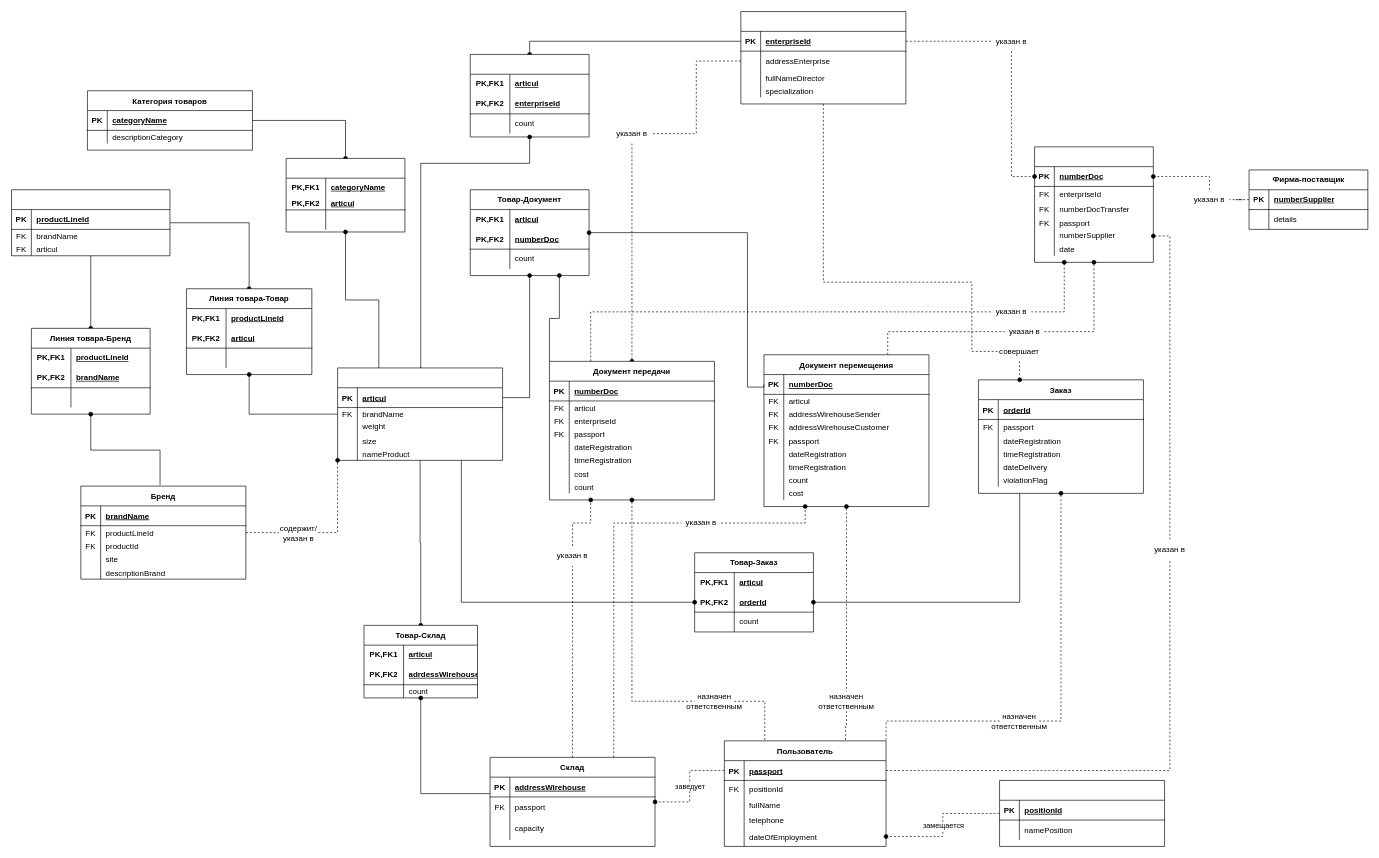
The diagram is 1379 pixels wide and 858 high, and some of its shapes have lost their labels. The shapes that lost their labels are listed below. From the top down, each one's box as (x1, y1, x2, y2) in pixels, then its label:
(740, 11, 906, 104): Торговое предприятие
(470, 54, 589, 137): Товар-Торговое предприятие
(285, 158, 405, 232): Каталог товаров -Товар
(1034, 146, 1153, 262): Товарная накладная
(11, 189, 170, 256): Линия товара
(337, 367, 503, 460): Товар
(999, 780, 1165, 846): Должность
